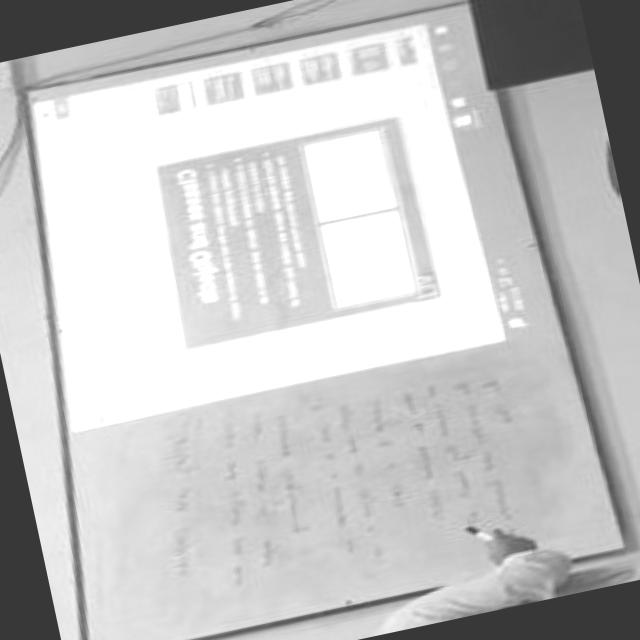Slide: (35, 16, 539, 431)
White-board: (22, 0, 626, 640)
